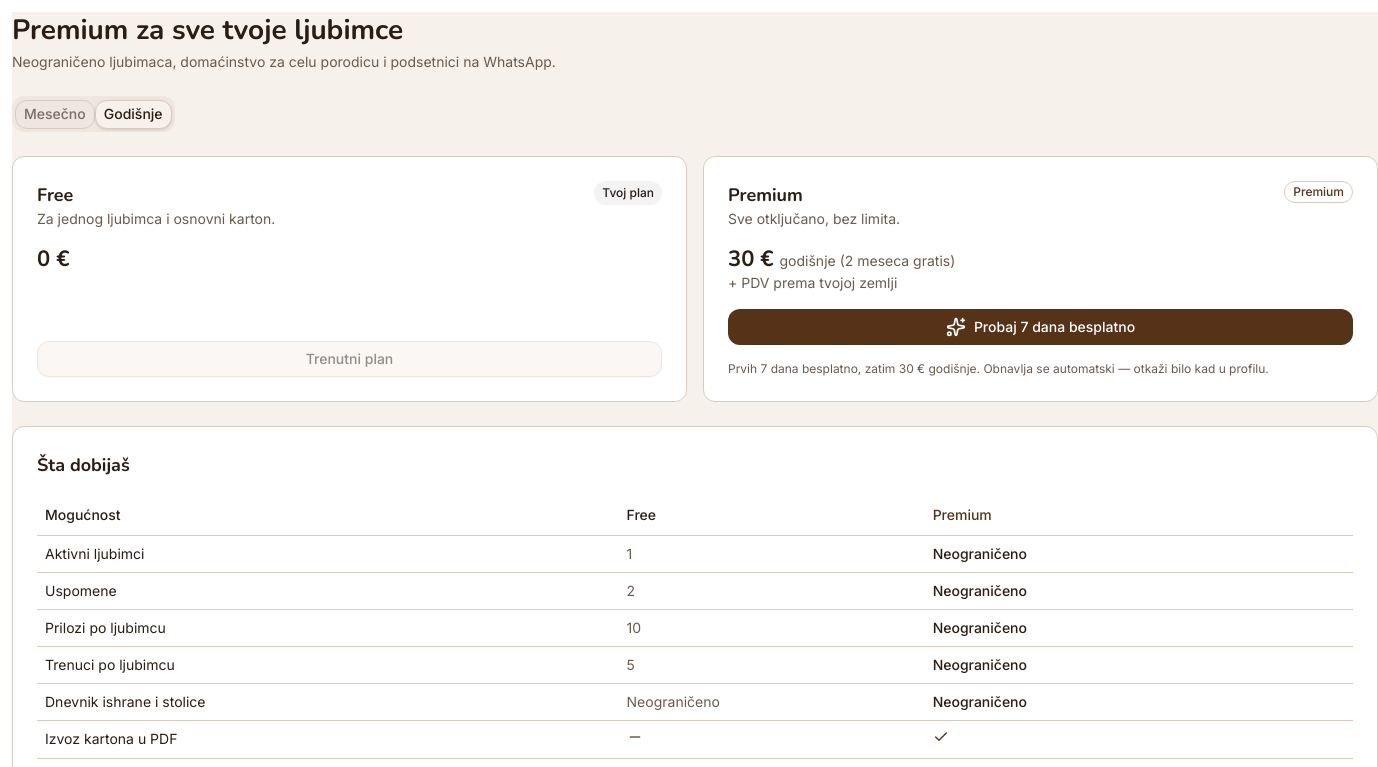
Test: S17 Premium — prices (BR-62 / EP-44) › sr-Latn: 3 € mesečno, 30 € godišnje (2 meseca gratis), + PDV, 0 € Free, the Paddle note
Expected: the text "+ PDV prema tvojoj zemlji" is shown, [728,274,897,291]
Expected: the text "0 €" is shown, [37,244,69,274]
Click the tab "Mesečno" at point(55, 114), box [15,100,95,128]
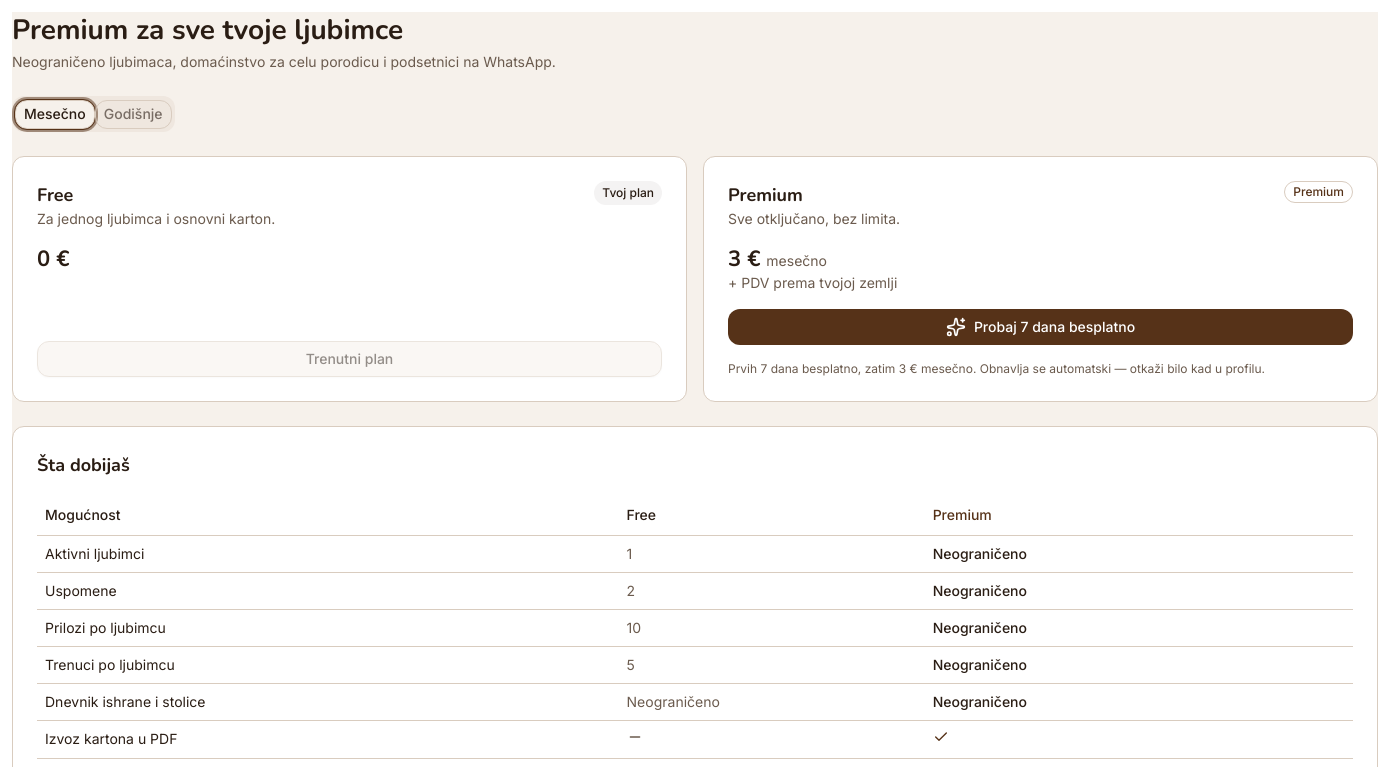
Expected: the text "godišnje (2 meseca gratis)" reads "3 € mesečno", [728,244,827,274]
